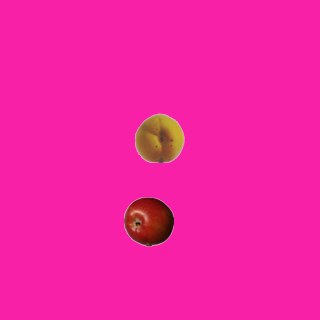Apple Braeburn: (123, 196, 173, 246)
Peach 2: (134, 112, 184, 162)
